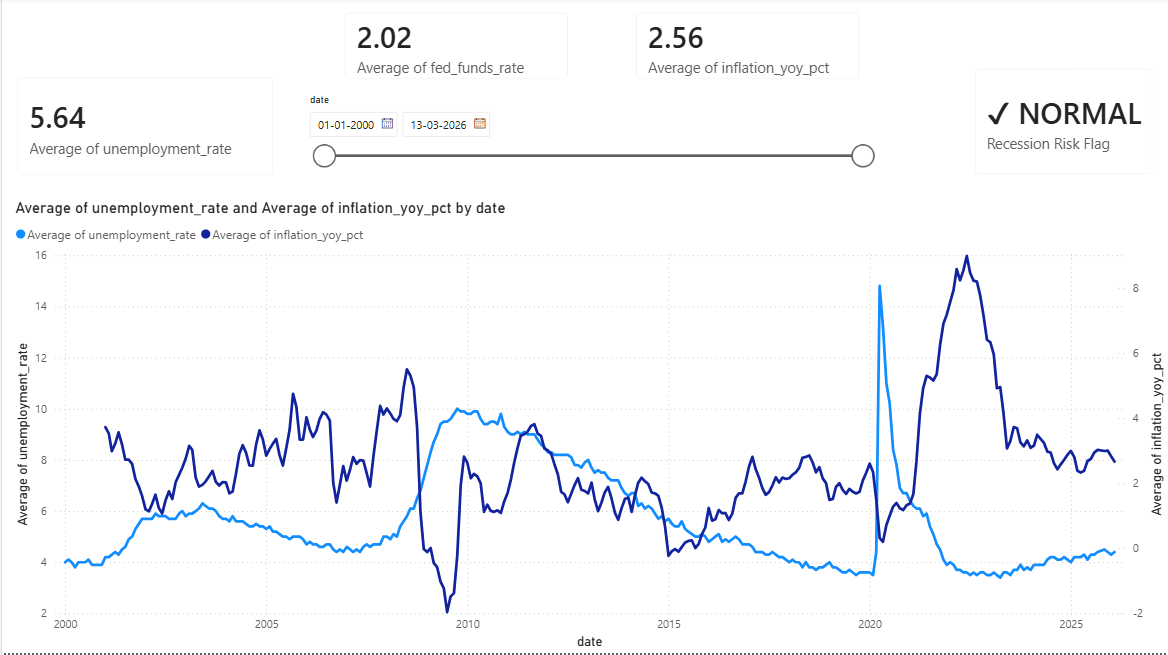

What the dashboard file says about the page in this screenshot:
{"tool":"powerbi","page":{"name":"Economic Pulse","canvas":[1280,720],"ordinal":0},"visuals":[{"type":"cardVisual","fields":{"Data":["Avg(economic_data.unemployment_rate)"]},"box":[0,71.4,315.6,141.3],"z":0},{"type":"cardVisual","fields":{"Data":["Avg(economic_data.inflation_yoy_pct)"]},"box":[679.2,0,279.9,107],"z":1},{"type":"cardVisual","fields":{"Data":["Avg(economic_data.fed_funds_rate)"]},"box":[359.5,0,279.9,107],"z":2},{"type":"cardVisual","fields":{"Data":["Measures (2).Recession Risk Flag"]},"box":[1051.1,61.7,229.2,150.9],"z":3},{"type":"lineChart","fields":{"Y":["Avg(economic_data.unemployment_rate)"],"Y2":["Avg(economic_data.inflation_yoy_pct)"],"Category":["economic_data.date"]},"box":[9.6,220.9,1270.7,499.5],"z":4},{"type":"slicer","fields":{"Values":["economic_data.date"]},"box":[325.2,101.5,640.8,111.1],"z":5}]}

Visuals, with their boxes in screenshot pixels (x1, y1, x2, y2), scaled from the page's 1280x720 canvas onto the 1168x655 screenshot:
cardVisual - Avg(economic_data.unemployment_rate): BBox(0, 65, 288, 193)
cardVisual - Avg(economic_data.inflation_yoy_pct): BBox(620, 0, 875, 97)
cardVisual - Avg(economic_data.fed_funds_rate): BBox(328, 0, 583, 97)
cardVisual - Measures (2).Recession Risk Flag: BBox(959, 56, 1167, 193)
lineChart - Avg(economic_data.unemployment_rate) x Avg(economic_data.inflation_yoy_pct): BBox(9, 201, 1167, 654)
slicer - economic_data.date: BBox(297, 92, 881, 193)
